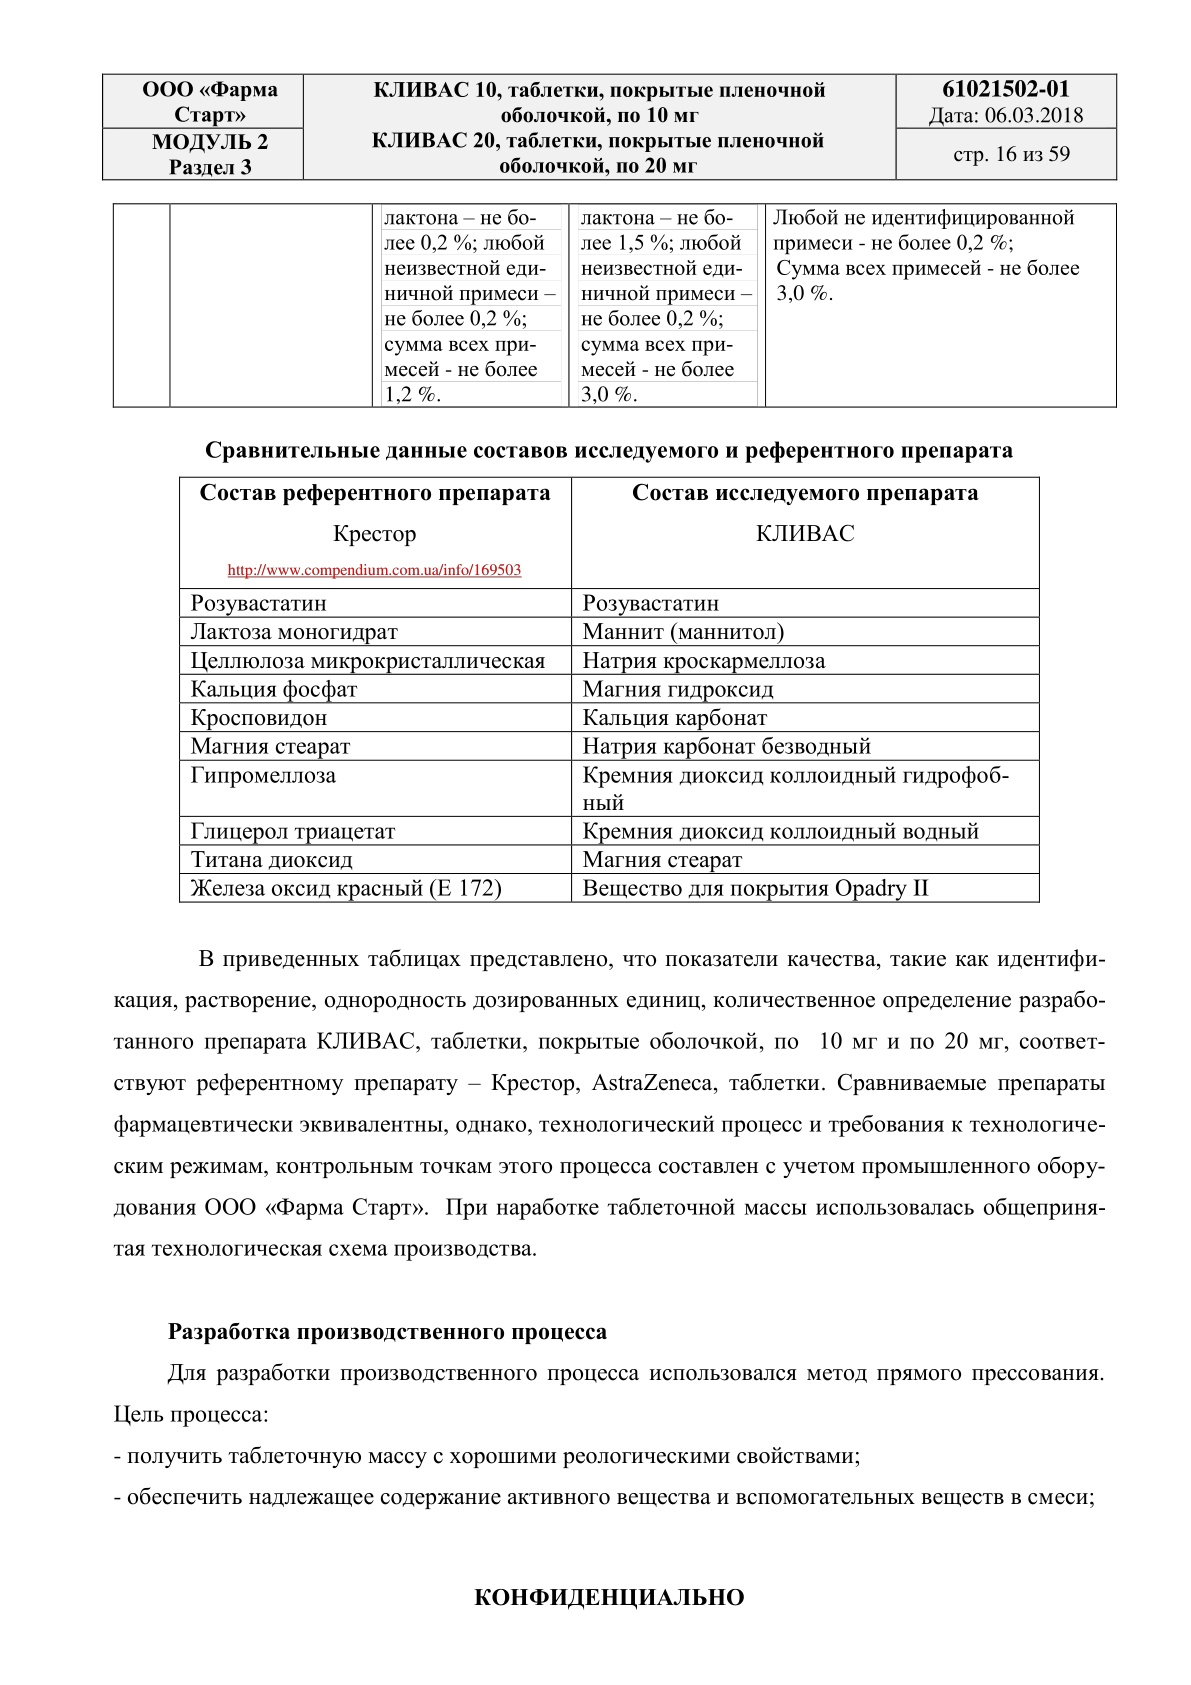full_lined: (177, 474, 1040, 902), (112, 202, 1118, 407)
merged_cells: (101, 73, 1118, 180)
